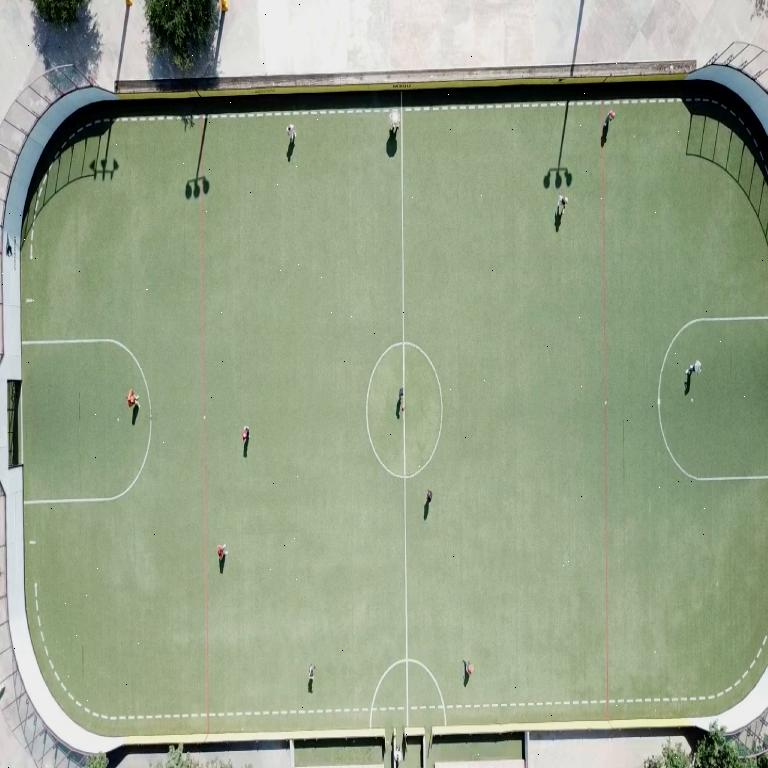AC: (23, 340, 152, 505), (658, 316, 768, 481)
B: (401, 404, 405, 411)
MC: (400, 410, 408, 726)
P: (601, 110, 614, 145), (389, 109, 401, 134), (126, 389, 138, 409), (463, 661, 473, 684), (685, 361, 700, 376), (556, 196, 567, 216), (216, 544, 227, 561), (286, 124, 295, 143), (398, 388, 404, 411), (307, 664, 315, 681), (241, 426, 248, 442), (425, 490, 431, 504)
